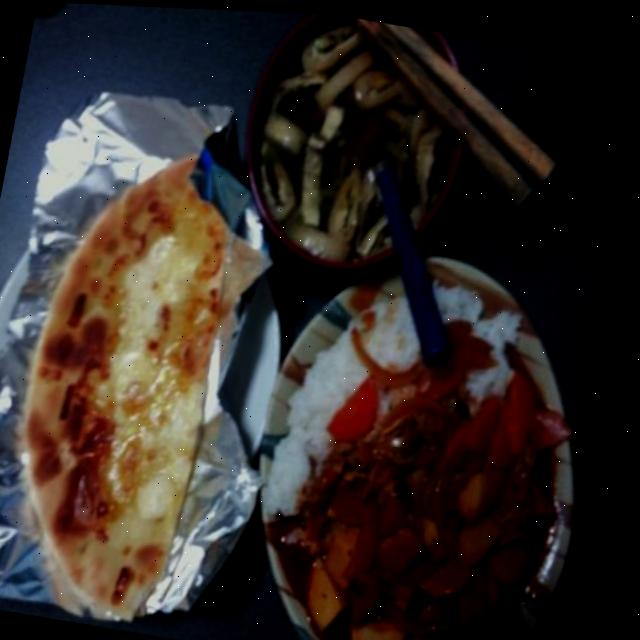汤锅炖物: (222, 8, 489, 292)
牛肉菜式: (225, 221, 629, 640)
